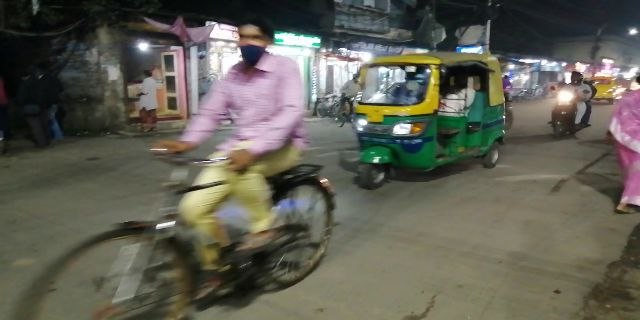Autorickshaw: (351, 51, 504, 189)
Cycle: (23, 23, 337, 318)
Motorbike: (548, 69, 595, 150)
